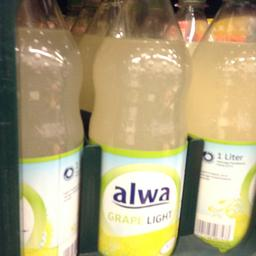soda: (89, 0, 192, 255), (14, 0, 84, 254), (188, 0, 254, 242)
